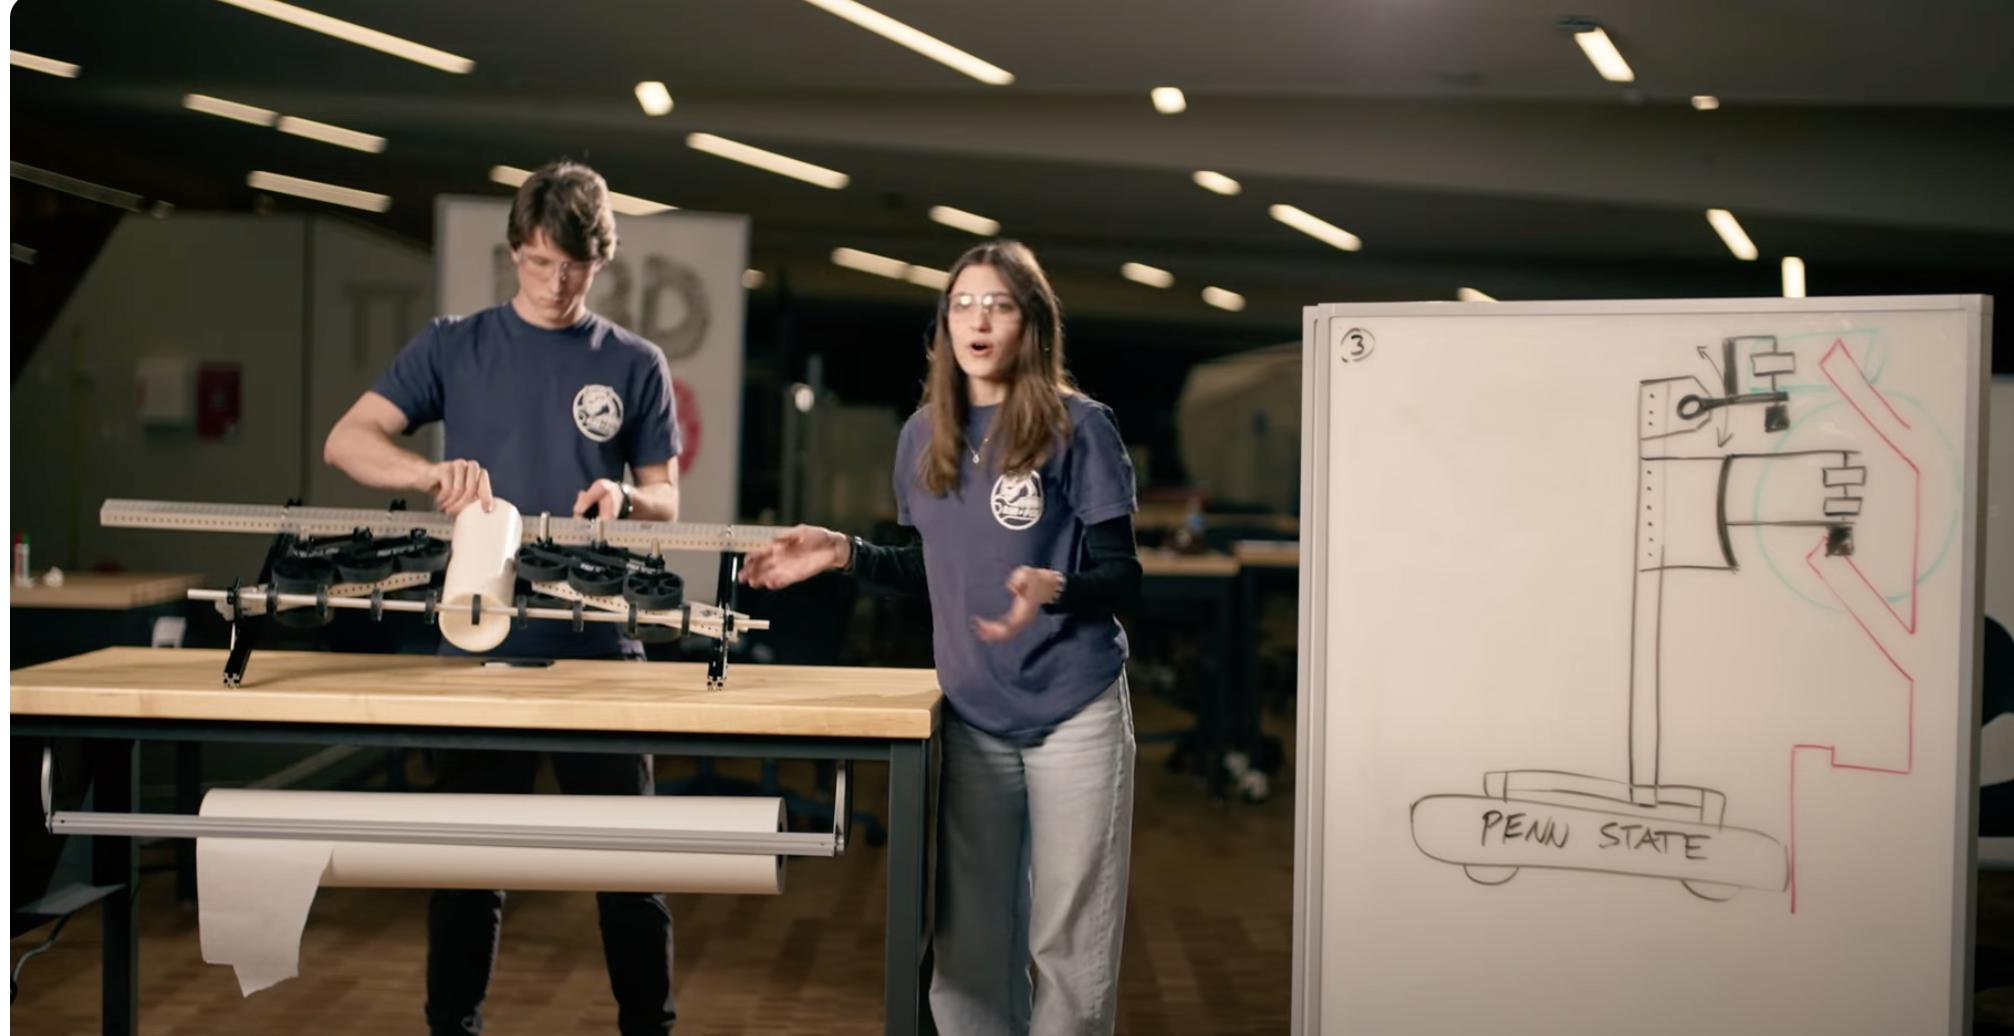CORAL: (441, 502, 520, 650)
